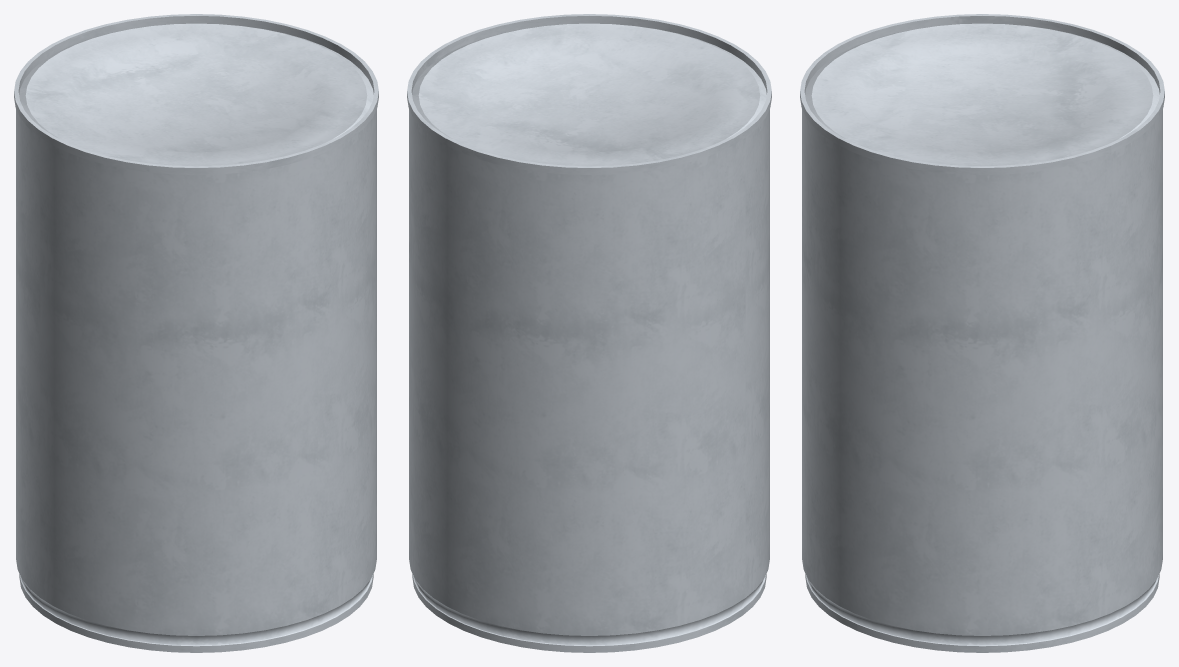
File: cc0_-_tin_can_4_1k.glb
3 renders of one model, left to right at view 1: azimuth 30°, elevation 25°; view 2: azimuth 150°, elevation 25°; view 3: azimuth 270°, elevation 25°, orthographic.
Parts seen in each view (by area): view 1: TinCan4; view 2: TinCan4; view 3: TinCan4.
Part boxes in pixels (box(x1,y1,x2,y2)): TinCan4: box(14, 14, 378, 652); TinCan4: box(407, 14, 771, 652); TinCan4: box(800, 14, 1164, 652).
Size of the model in its own units: 0.0739 by 0.109 by 0.0739.
1 material, 1 textured.
